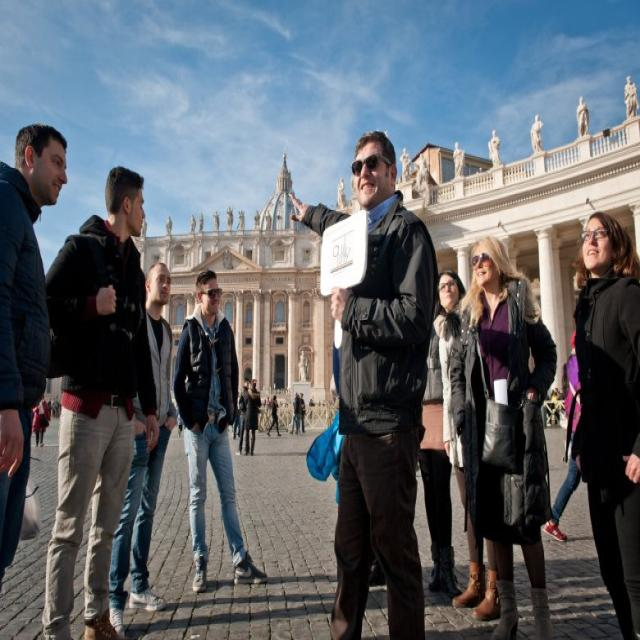body: (282, 126, 441, 639), (38, 157, 161, 639), (446, 232, 560, 639), (327, 73, 639, 215), (170, 267, 271, 595), (0, 122, 70, 587), (567, 207, 639, 638), (106, 259, 177, 639), (434, 268, 502, 623), (418, 322, 464, 600), (307, 300, 343, 538), (540, 325, 579, 544), (140, 202, 304, 240), (542, 363, 567, 432), (242, 377, 263, 457), (236, 377, 253, 456), (31, 394, 50, 449), (266, 393, 283, 439), (230, 390, 242, 442), (369, 559, 386, 593), (46, 396, 63, 422), (174, 403, 183, 437), (298, 348, 307, 382), (290, 397, 298, 435), (299, 393, 306, 434), (261, 395, 270, 420), (296, 394, 301, 429), (277, 399, 292, 410)
